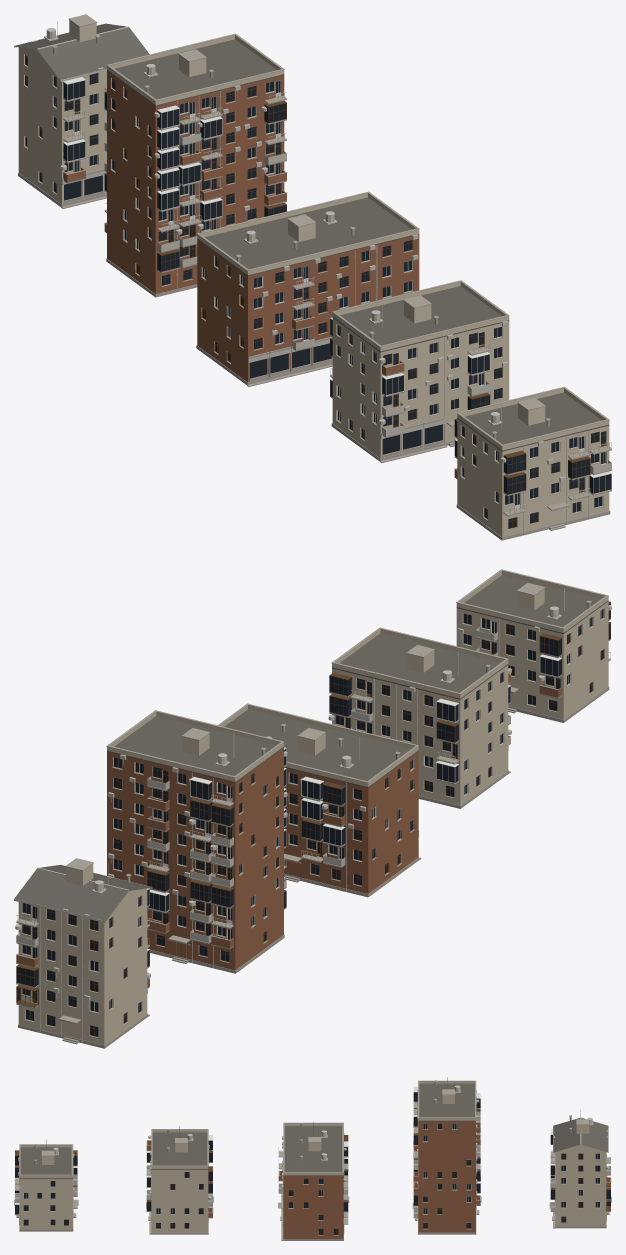
The model's file is apartments.glb.
The picture shows the model from 3 angles, top to bottom: view 1: azimuth 30°, elevation 25°; view 2: azimuth 150°, elevation 25°; view 3: azimuth 270°, elevation 25°; orthographic projection. The views are drawn at different scales.
Parts seen in each view (by area): view 1: apt_d, apt_c, apt_b, apt_a, apt_e; view 2: apt_d, apt_c, apt_b, apt_e, apt_a; view 3: apt_d, apt_c, apt_b, apt_e, apt_a.
Boxes of the visible parts, left/top/right/bottom form: apt_d: left=104, top=33, right=286, bottom=297; apt_c: left=196, top=191, right=419, bottom=386; apt_b: left=330, top=280, right=509, bottom=462; apt_a: left=454, top=386, right=611, bottom=540; apt_e: left=14, top=14, right=149, bottom=208; apt_d: left=106, top=710, right=287, bottom=973; apt_c: left=218, top=703, right=421, bottom=897; apt_b: left=328, top=627, right=511, bottom=808; apt_e: left=14, top=858, right=152, bottom=1048; apt_a: left=456, top=569, right=611, bottom=722; apt_d: left=412, top=1077, right=481, bottom=1234; apt_c: left=278, top=1122, right=349, bottom=1240; apt_b: left=146, top=1126, right=213, bottom=1234; apt_e: left=549, top=1110, right=611, bottom=1228; apt_a: left=14, top=1140, right=78, bottom=1231.
Size of the model in its own units: 26.8 by 31.61 by 134.
